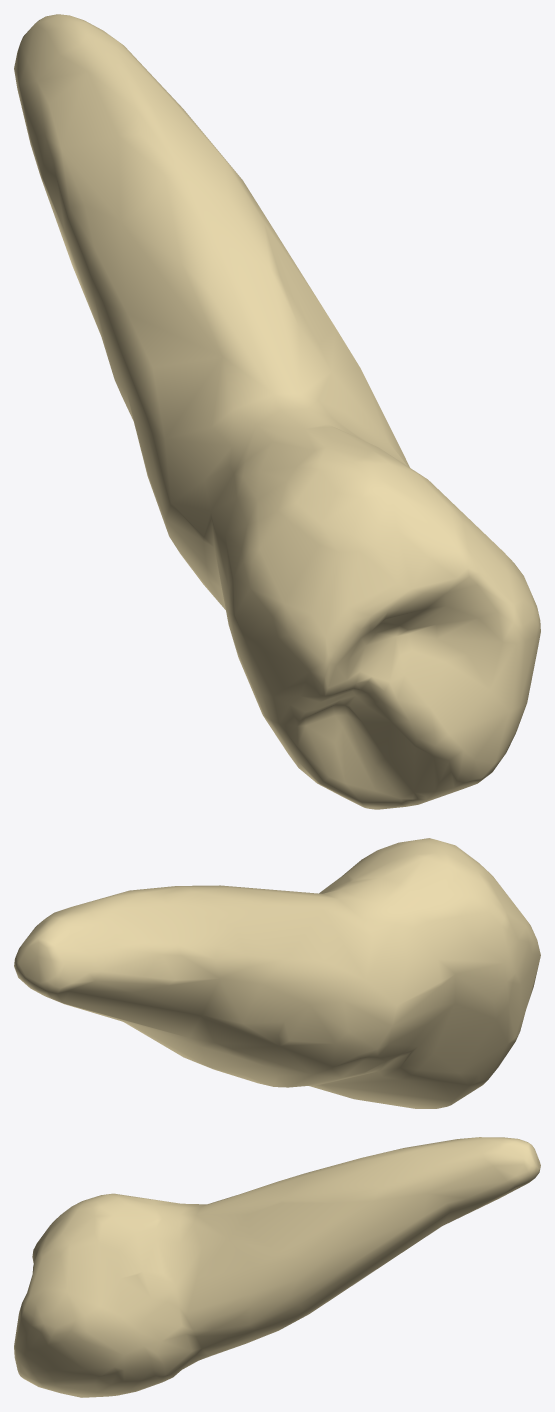
3 renders of one model, top to bottom at view 1: azimuth 30°, elevation 25°; view 2: azimuth 150°, elevation 25°; view 3: azimuth 270°, elevation 25°, orthographic. The views are drawn at different scales.
Visible parts, largest first — view 1: 左侧下颌第二前磨牙; view 2: 左侧下颌第二前磨牙; view 3: 左侧下颌第二前磨牙.
Boxes of the visible parts, x1,y1,x2,y2 form: 左侧下颌第二前磨牙: [14, 14, 540, 809]; 左侧下颌第二前磨牙: [14, 838, 540, 1108]; 左侧下颌第二前磨牙: [14, 1137, 540, 1397].
Size of the model in its own units: 0.0117 by 0.0192 by 0.0336.
